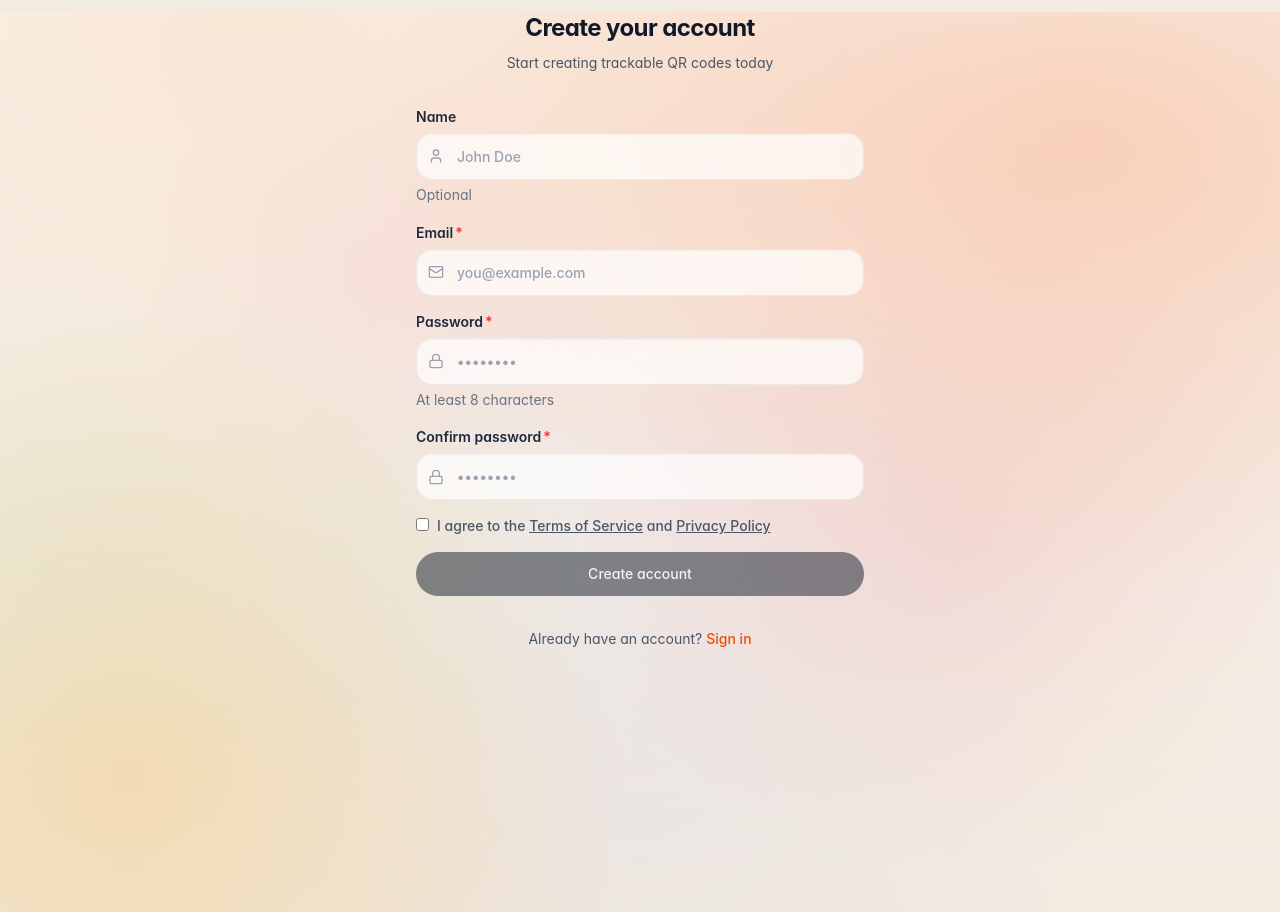
Test case: SignUpForm › shows success screen after successful signup
Type "john@example.com" into the field labelled "Email*" at x=640, y=272, box [416,248,864,296]
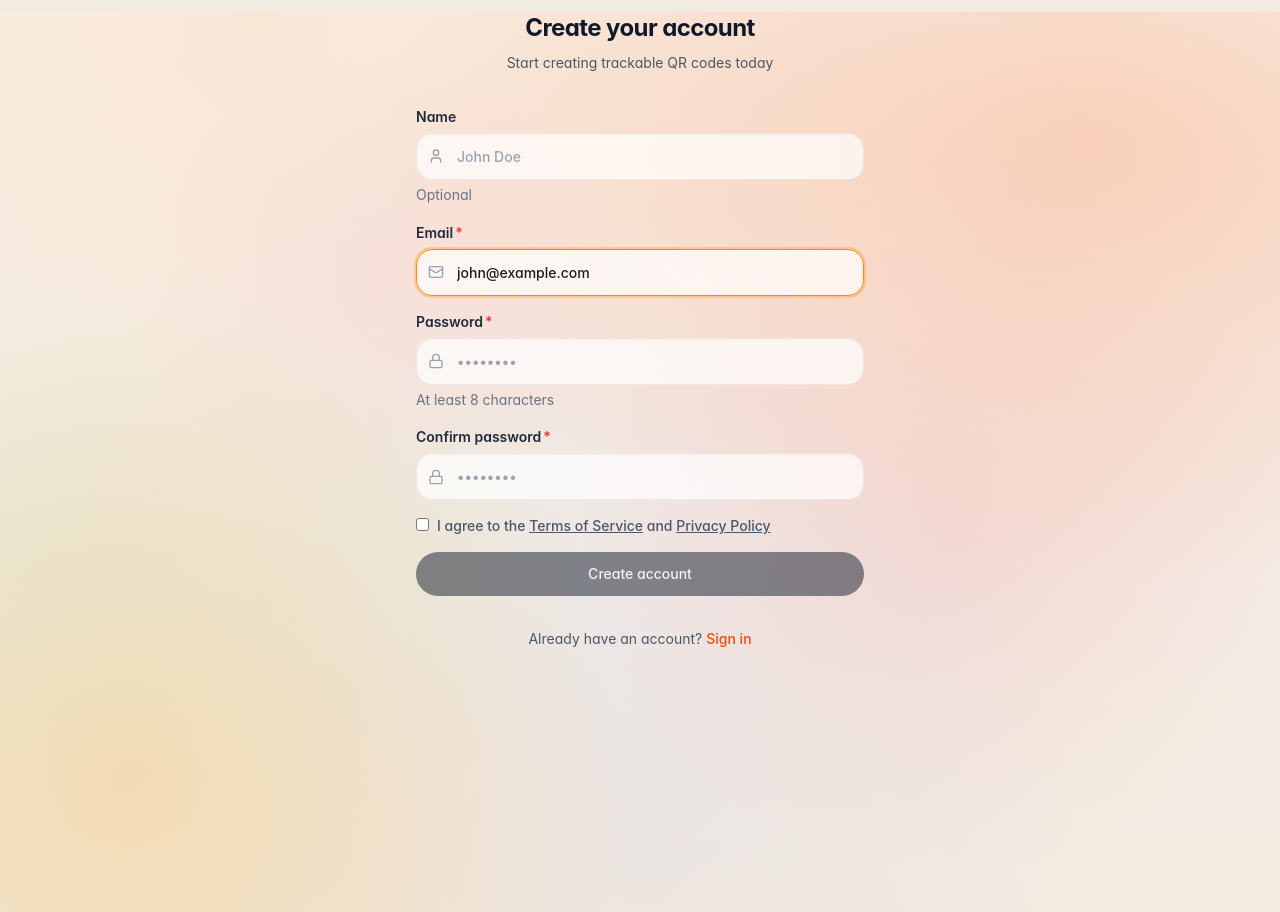
Type "password123" into the password field with placeholder "••••••••" at x=640, y=361, box [416,338,864,384]
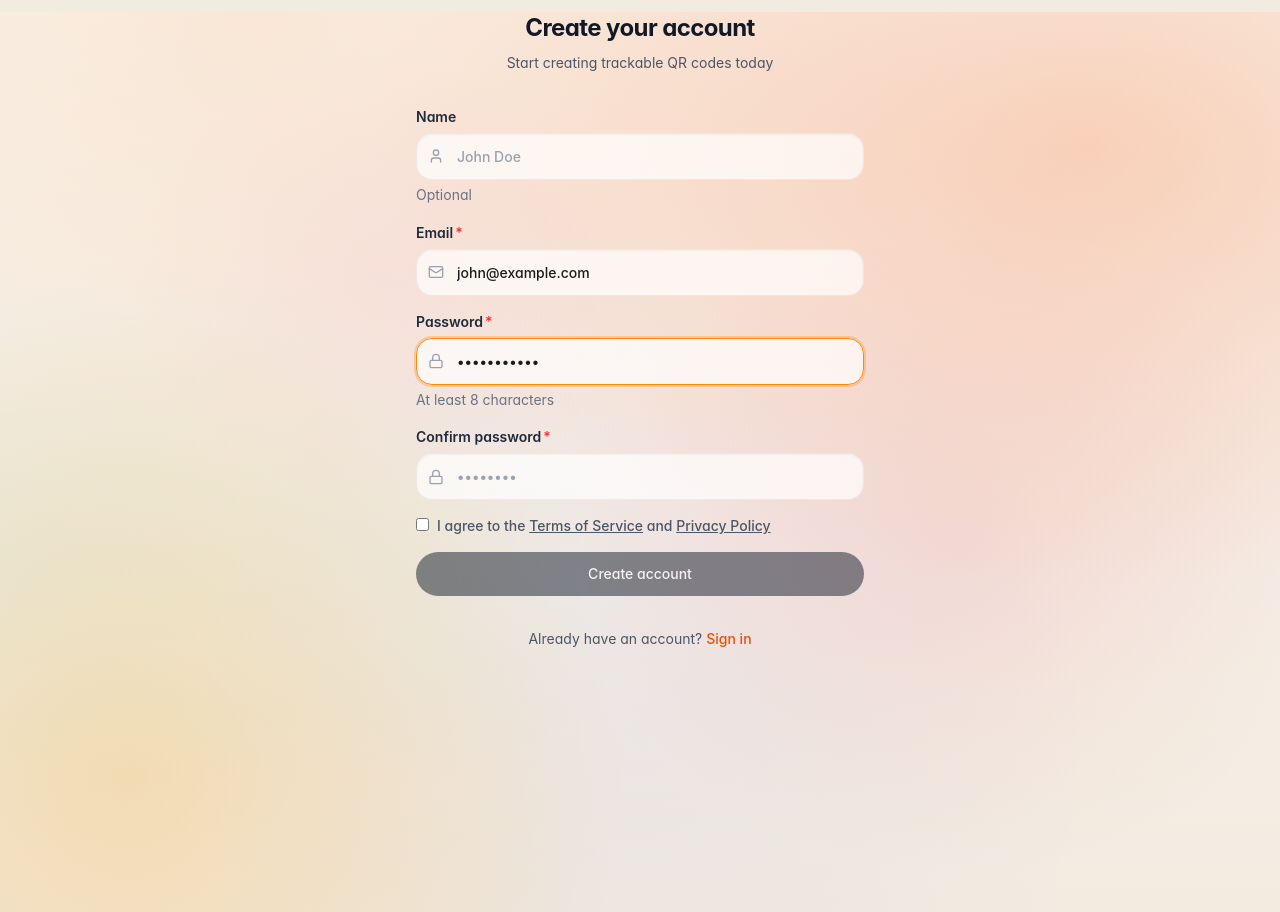
Type "password123" into the password field with placeholder "••••••••" at x=640, y=477, box [416,453,864,500]
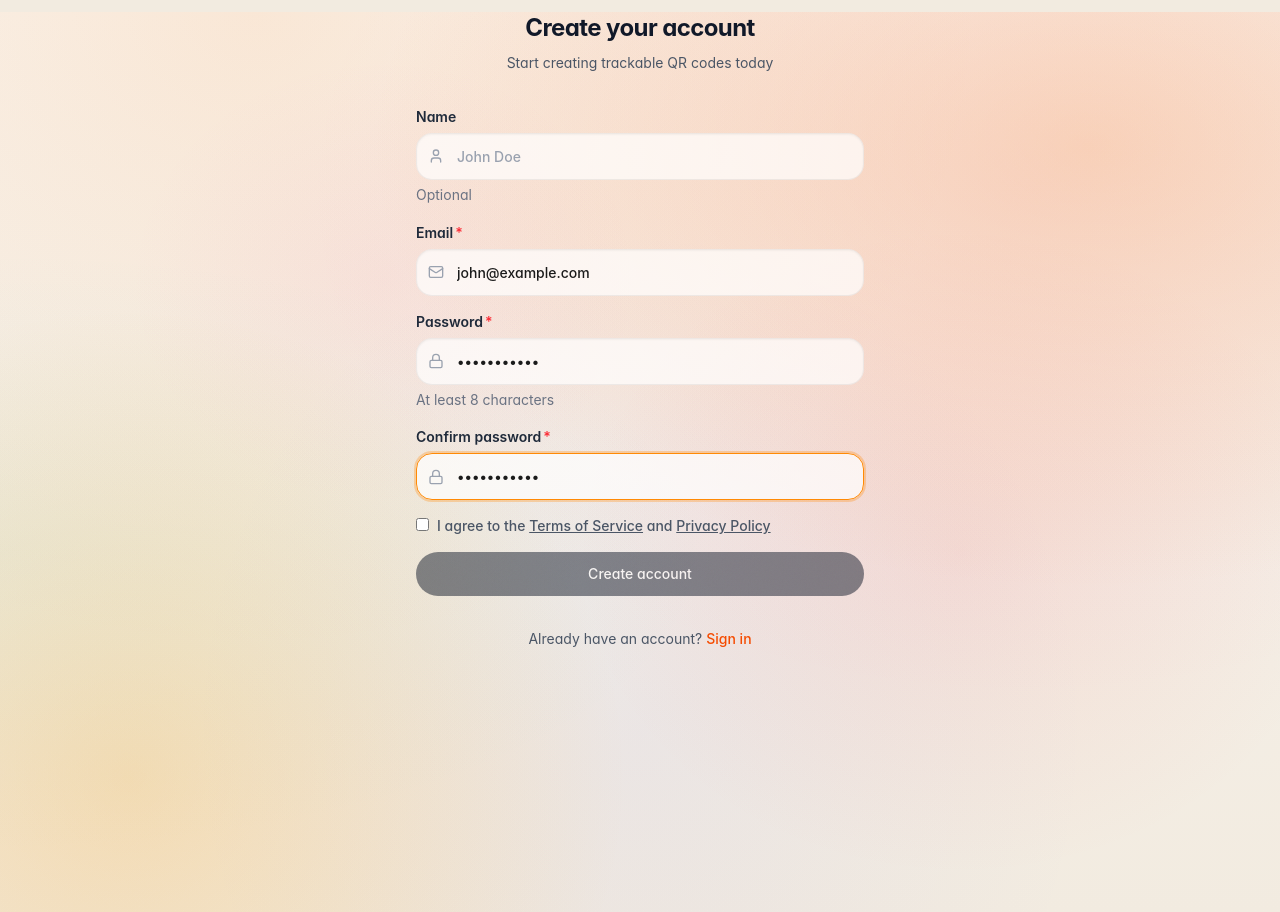
Click the checkbox at x=422, y=525, box [416,518,429,531]
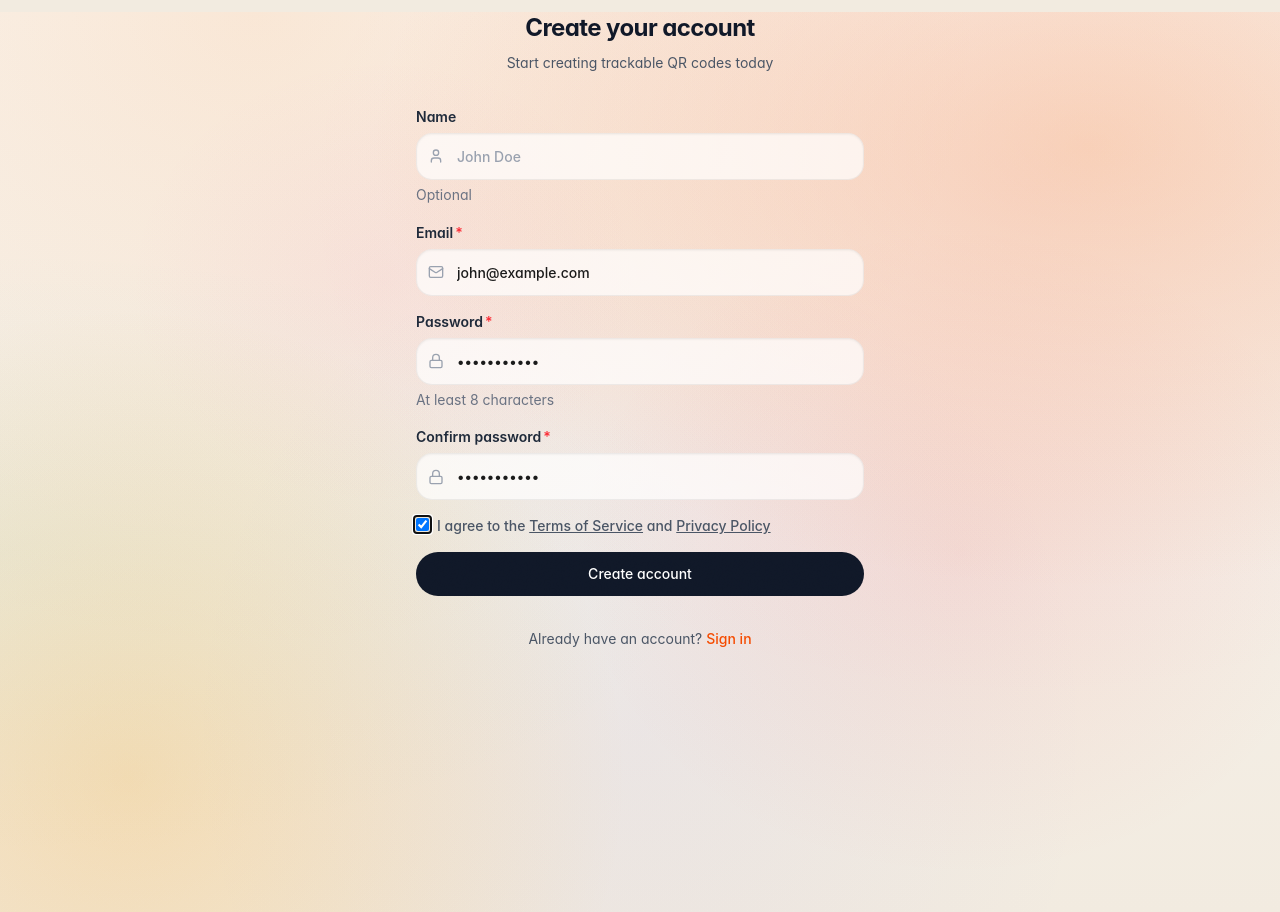
Click the button "Create account" at x=640, y=574, box [416,552,864,596]
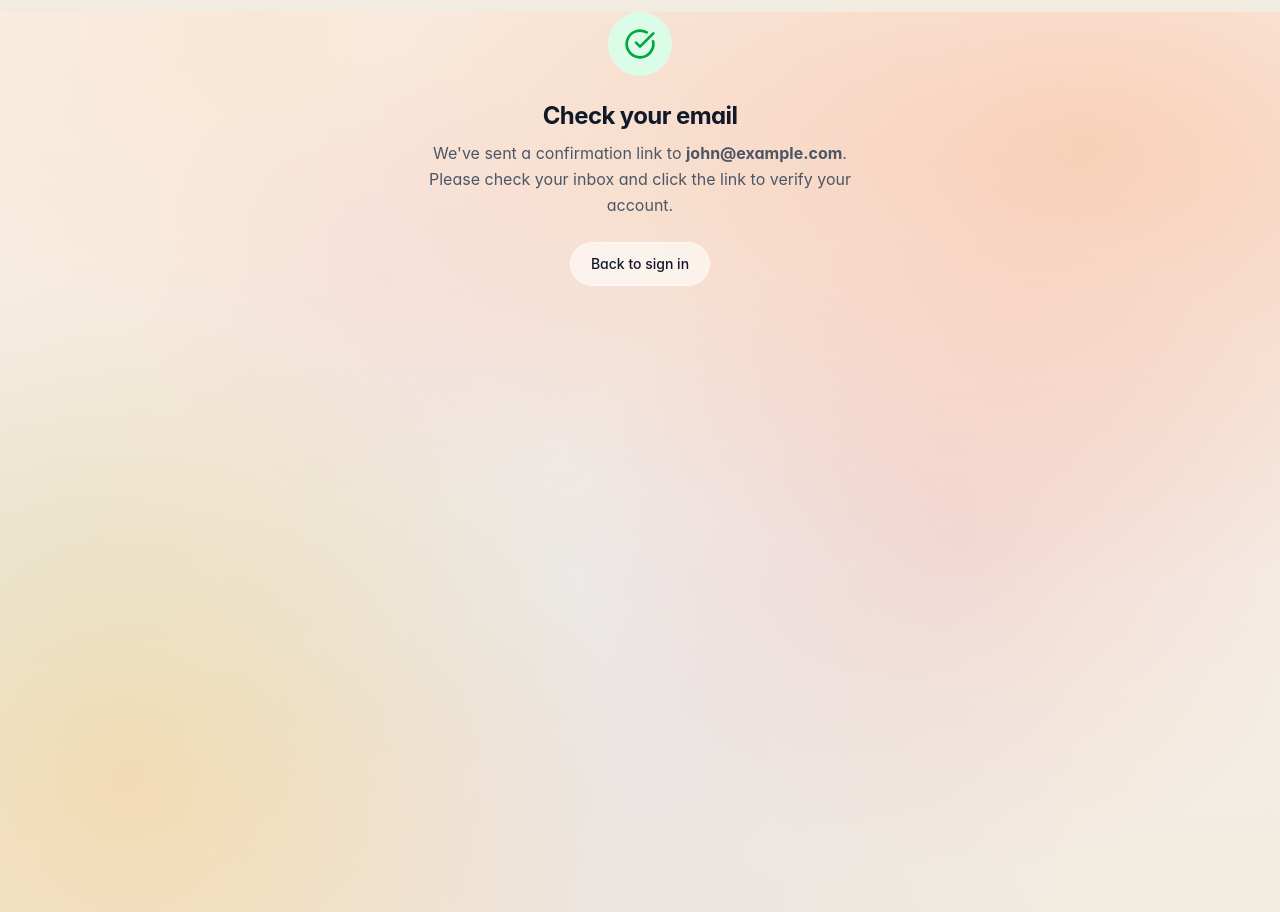
Now the heading "Check your email" is shown, box [543,101,737,130]
Now the text "We've sent a confirmation link" is shown, box [433,143,686,163]
Now the button "Back to sign in" is shown, box [570,242,710,286]
